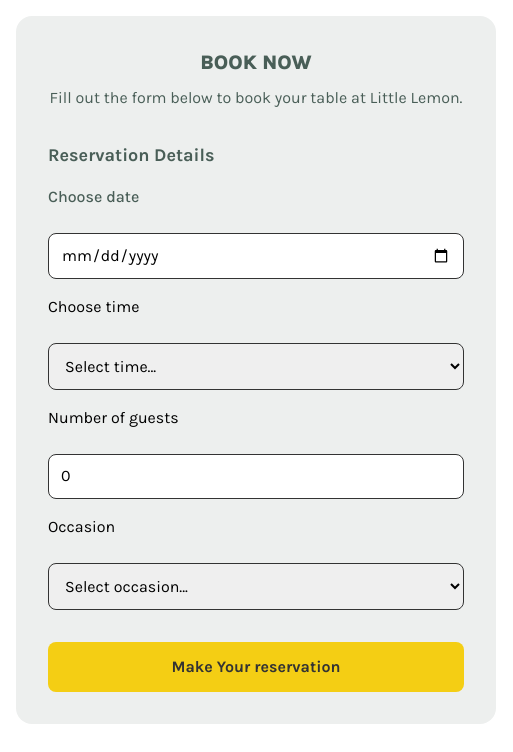
Test: BookingForm › error message should show when guess input is empty
The image size is (513, 752).
Clear the number field labelled "Number of guests" at (256, 477), box [48, 454, 464, 499]
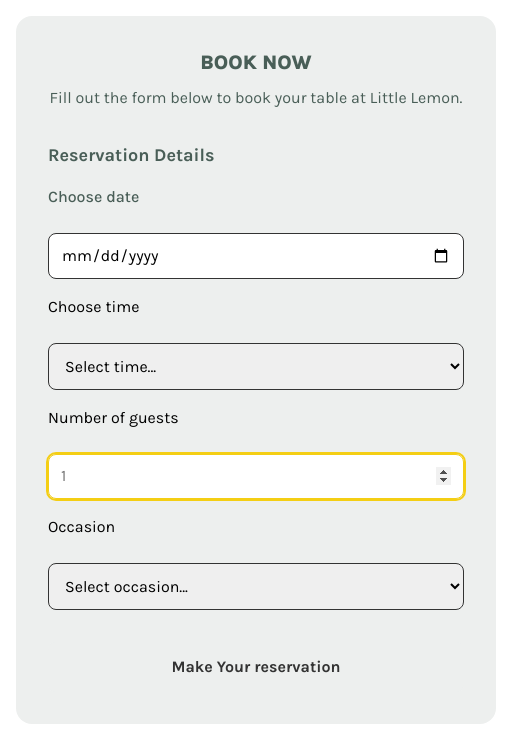
Press Tab
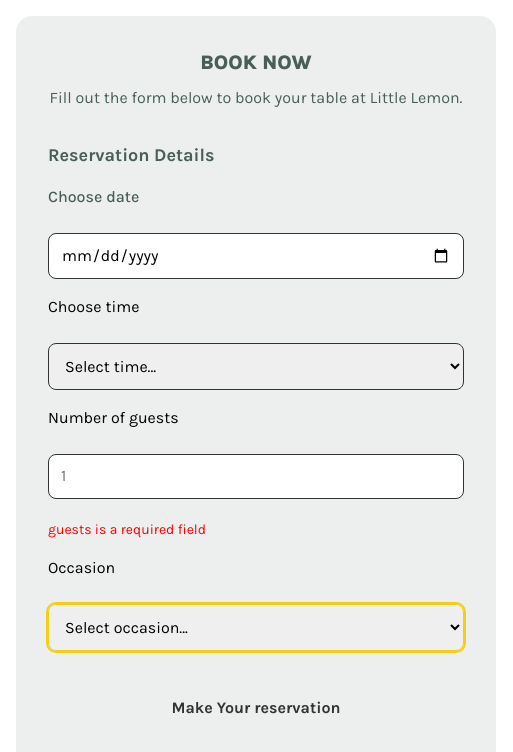
Now the text "guests is a required field" is shown, box [48, 521, 206, 538]
